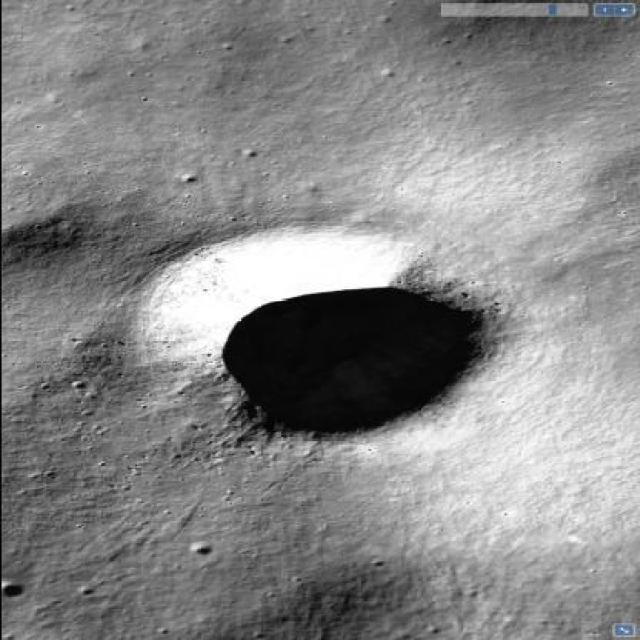crater: (131, 228, 515, 446)
